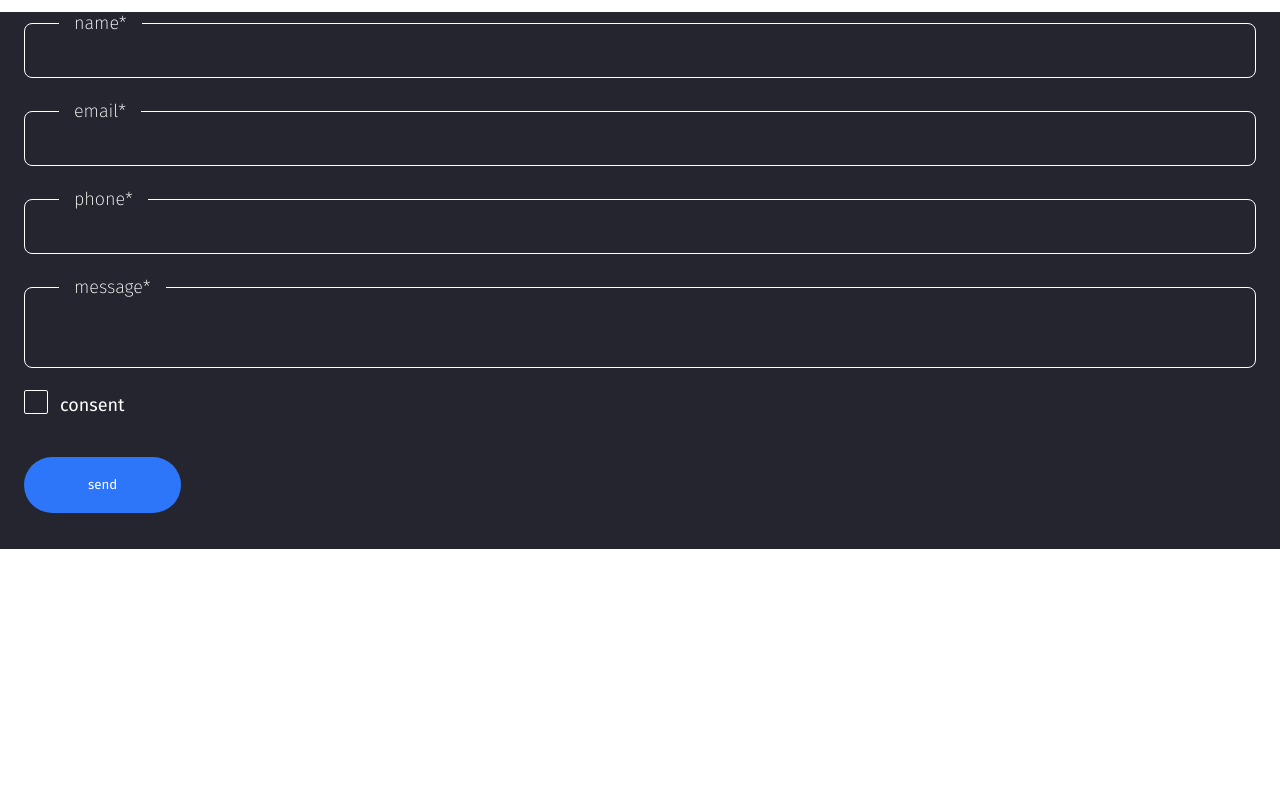
Test: ContactForm Component › shows validation error messages when required fields are empty
The width and height of the screenshot is (1280, 812).
What coordinates should you click on to do the following:
click the button with aria-label "contact-form-submit"
I would click on:
 (103, 485)
Its box is 24,457 -> 181,513.
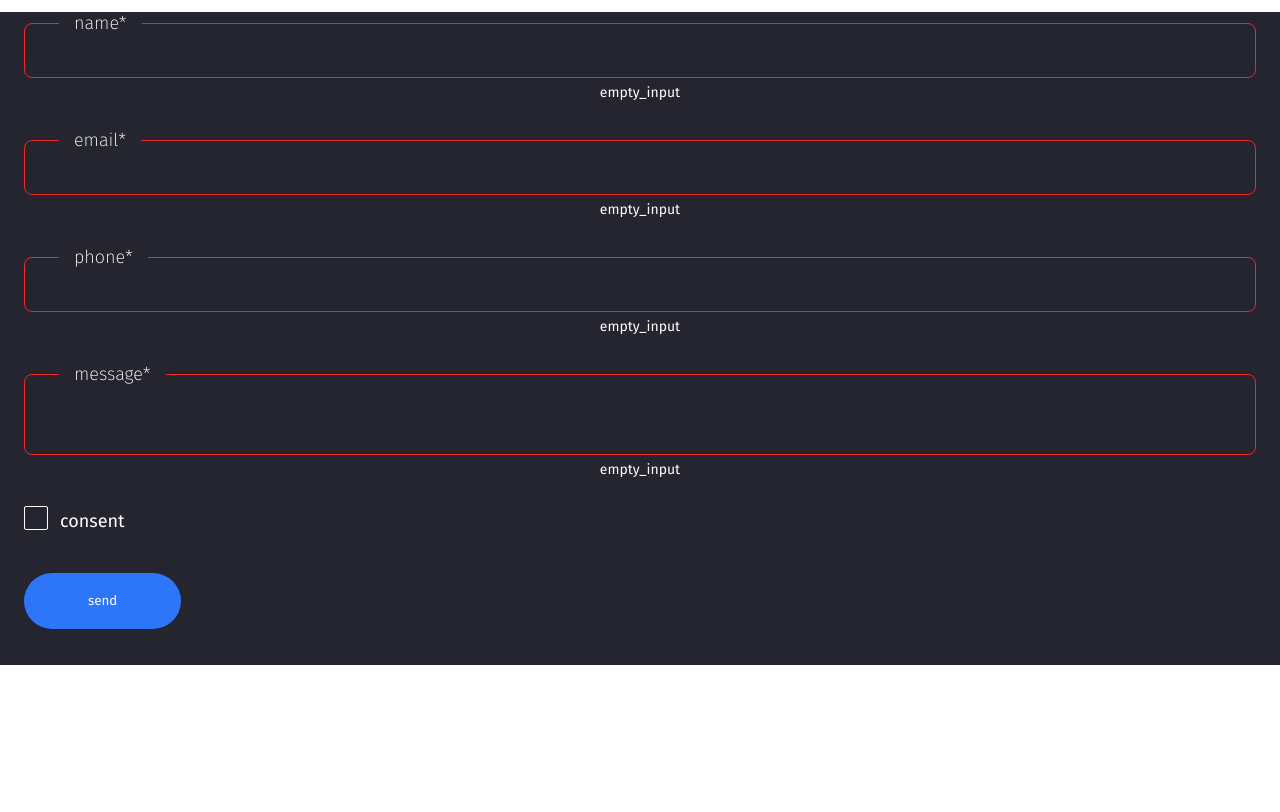
Now the text named "name-error" is shown, box 600,84 -> 680,101
Now the text named "email-error" is shown, box 600,201 -> 680,218
Now the text named "phone-error" is shown, box 600,318 -> 680,335
